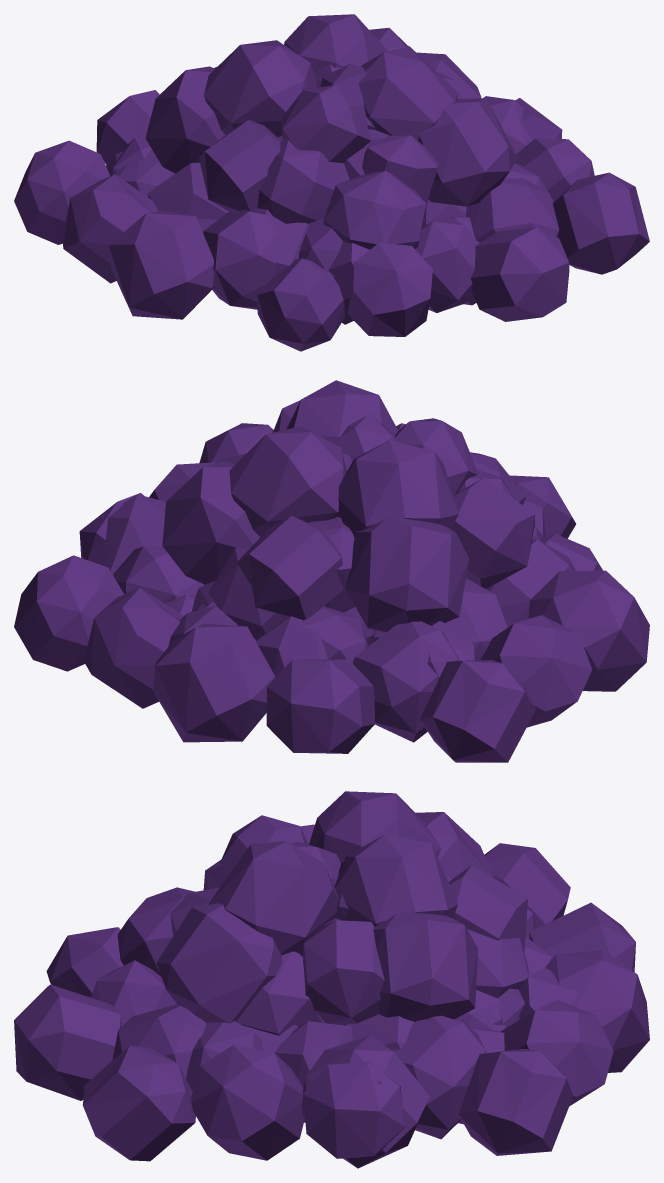
Rendered from Pile of Grapes.fbx.
The picture shows the model from 3 angles, top to bottom: view 1: azimuth 30°, elevation 25°; view 2: azimuth 150°, elevation 25°; view 3: azimuth 270°, elevation 25°; orthographic projection. The views are drawn at different scales.
Visible parts, largest first — view 1: Pile of Grapes; view 2: Pile of Grapes; view 3: Pile of Grapes.
Boxes of the visible parts, x1,y1,x2,y2 form: Pile of Grapes: [14, 14, 649, 351]; Pile of Grapes: [14, 380, 649, 762]; Pile of Grapes: [14, 791, 649, 1168].
Size of the model in its own units: 64.43 by 29.36 by 67.76.
